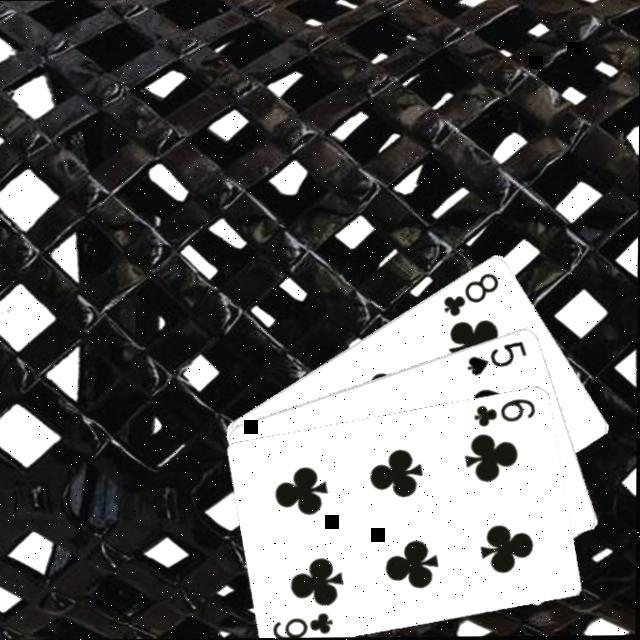5S: (466, 336, 532, 378)
6C: (473, 394, 541, 428), (272, 607, 340, 638)
8C: (442, 268, 506, 318)
